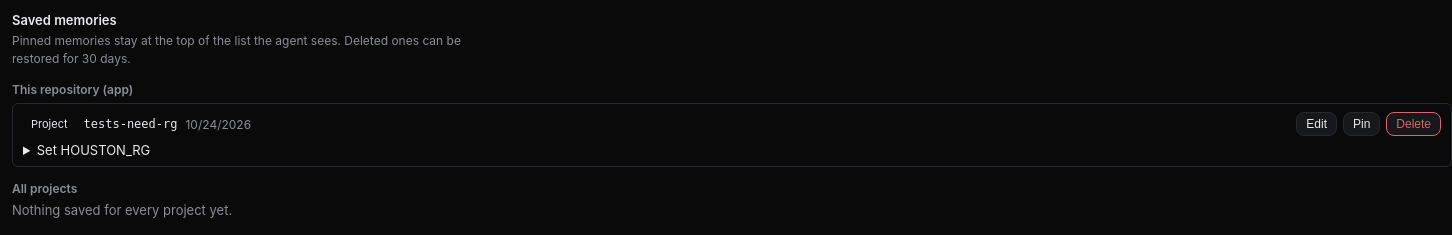
Test: MemoriesSection › pins and unpins
Click the button with aria-label "Pin memory tests-need-rg" at (1362, 124), box [1343, 112, 1380, 136]
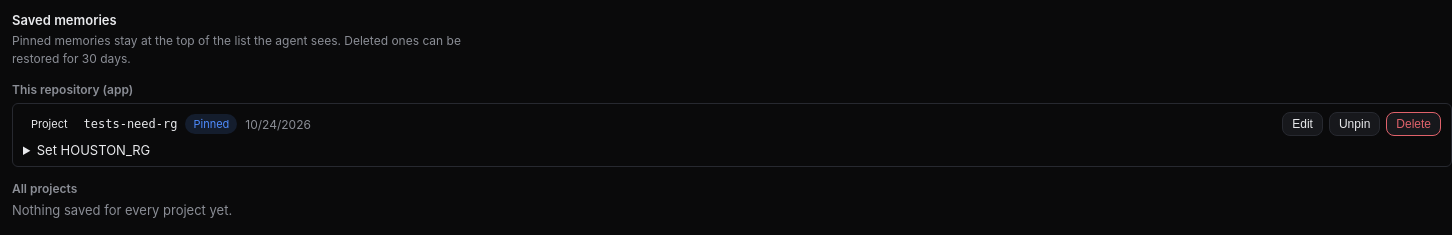
Expected: the text "Pinned" is shown, [186, 114, 237, 134]
